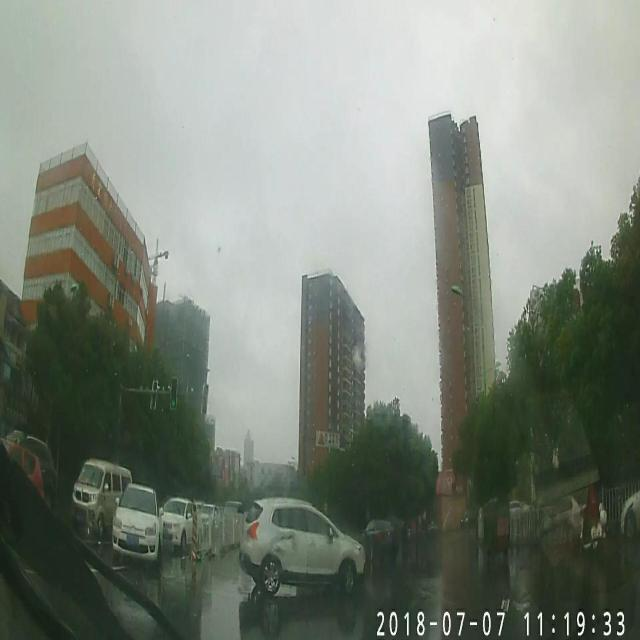car: (236, 494, 364, 594), (67, 458, 135, 535), (110, 481, 166, 568), (6, 430, 60, 510), (160, 494, 202, 548), (361, 519, 398, 567), (219, 498, 243, 534)
